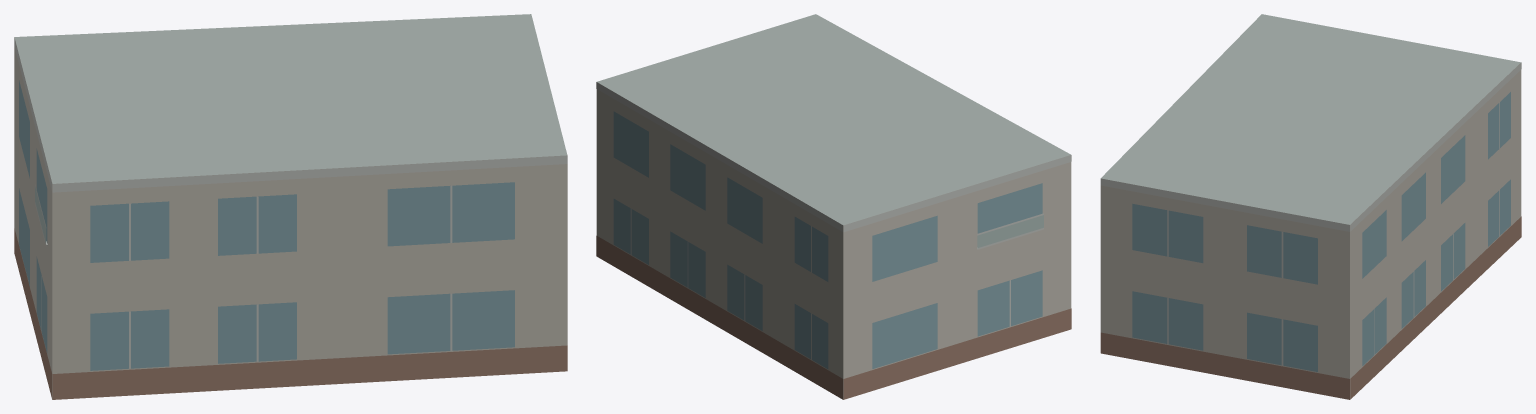
The model's file is survey-upis-32646642.glb.
The picture shows the model from 3 angles, left to right: view 1: azimuth 30°, elevation 25°; view 2: azimuth 150°, elevation 25°; view 3: azimuth 270°, elevation 25°; orthographic projection. The views are drawn at different scales.
Parts seen in each view (by area): view 1: survey-upis-32646642.tmp; view 2: survey-upis-32646642.tmp; view 3: survey-upis-32646642.tmp.
Boxes of the visible parts, x1,y1,x2,y2 form: survey-upis-32646642.tmp: (14, 14, 567, 399); survey-upis-32646642.tmp: (596, 14, 1071, 399); survey-upis-32646642.tmp: (1100, 14, 1521, 399).
Size of the model in its own units: 15.78 by 6.1 by 13.31.
